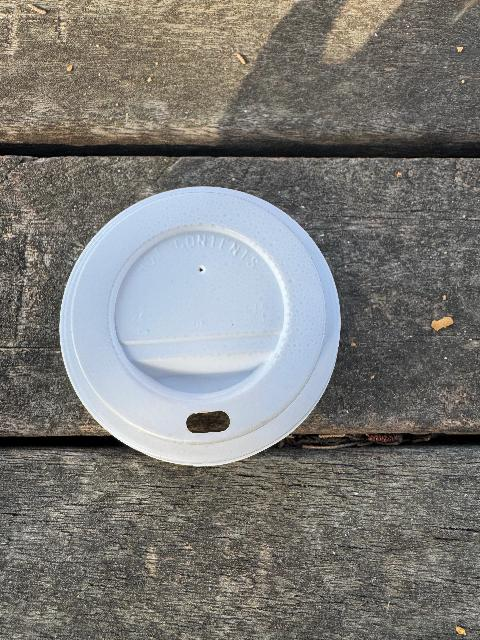Plastik: (60, 182, 344, 476)
